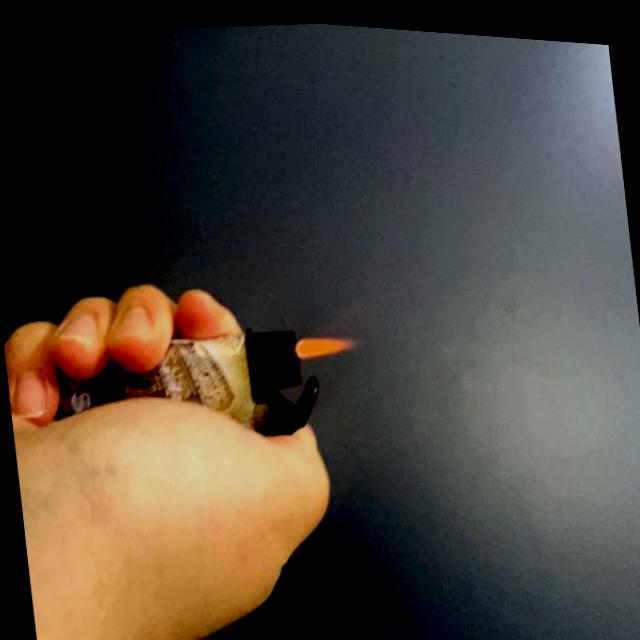helmet: (292, 322, 362, 359)
